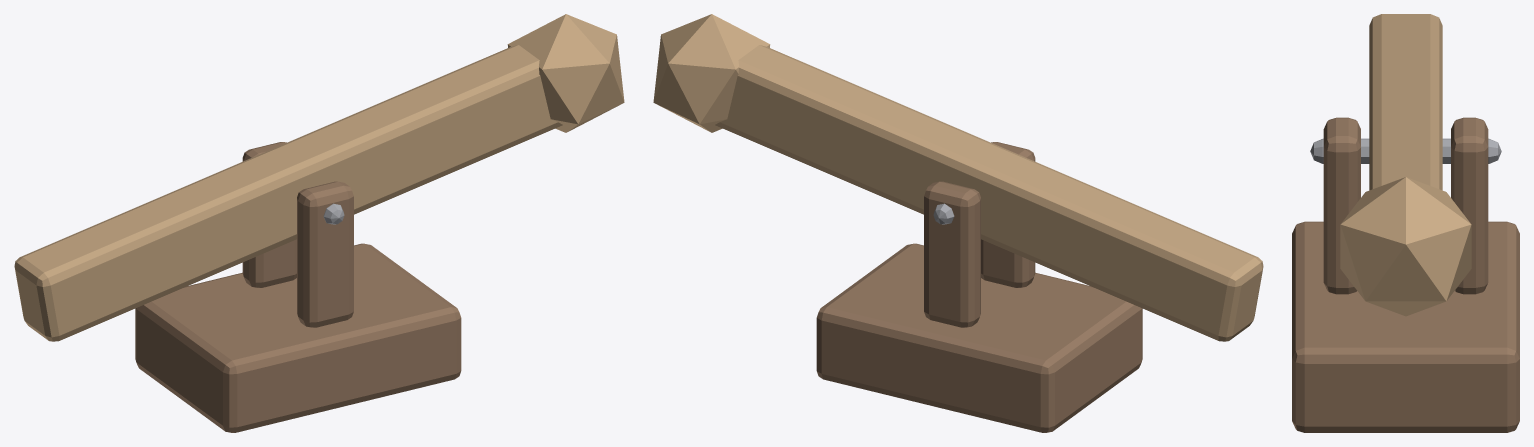
File: 70-Interacciones_palanca_madera.glb
The picture shows the model from 3 angles, left to right: view 1: azimuth 30°, elevation 25°; view 2: azimuth 150°, elevation 25°; view 3: azimuth 270°, elevation 25°; orthographic projection. The views are drawn at different scales.
Visible parts, largest first — view 1: SM_Palanca_Madera; view 2: SM_Palanca_Madera; view 3: SM_Palanca_Madera.
Boxes of the visible parts, left/top/right/bottom form: SM_Palanca_Madera: left=14, top=14, right=624, bottom=432; SM_Palanca_Madera: left=653, top=14, right=1263, bottom=432; SM_Palanca_Madera: left=1292, top=14, right=1519, bottom=432.
Bounding box in the file's own units: 1.2 × 0.5705 × 0.34.
